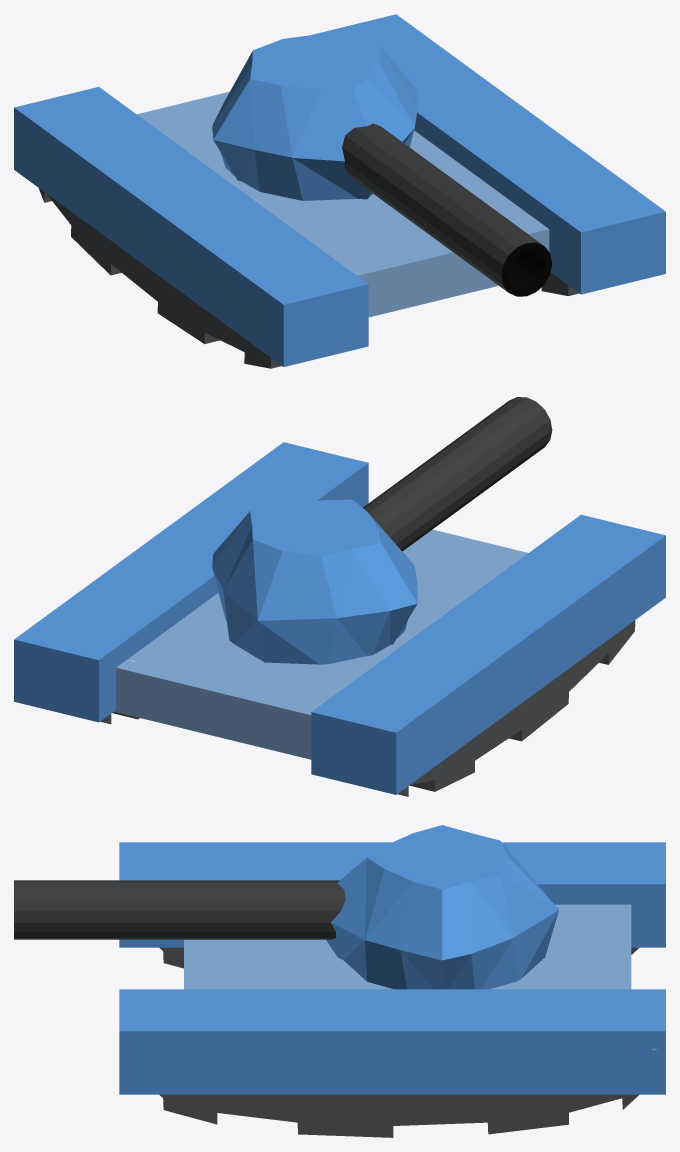
Rendered from canota.obj.
The picture shows the model from 3 angles, top to bottom: view 1: azimuth 30°, elevation 25°; view 2: azimuth 150°, elevation 25°; view 3: azimuth 270°, elevation 25°; orthographic projection.
Visible parts, largest first — view 1: canota; view 2: canota; view 3: canota.
Part boxes in pixels (<box>): canota: <box>14,14,665,368</box>; canota: <box>14,397,665,796</box>; canota: <box>14,825,665,1137</box>.
Bounding box in the file's own units: 9 × 4.23 × 13.12.
1 material, 1 textured.
